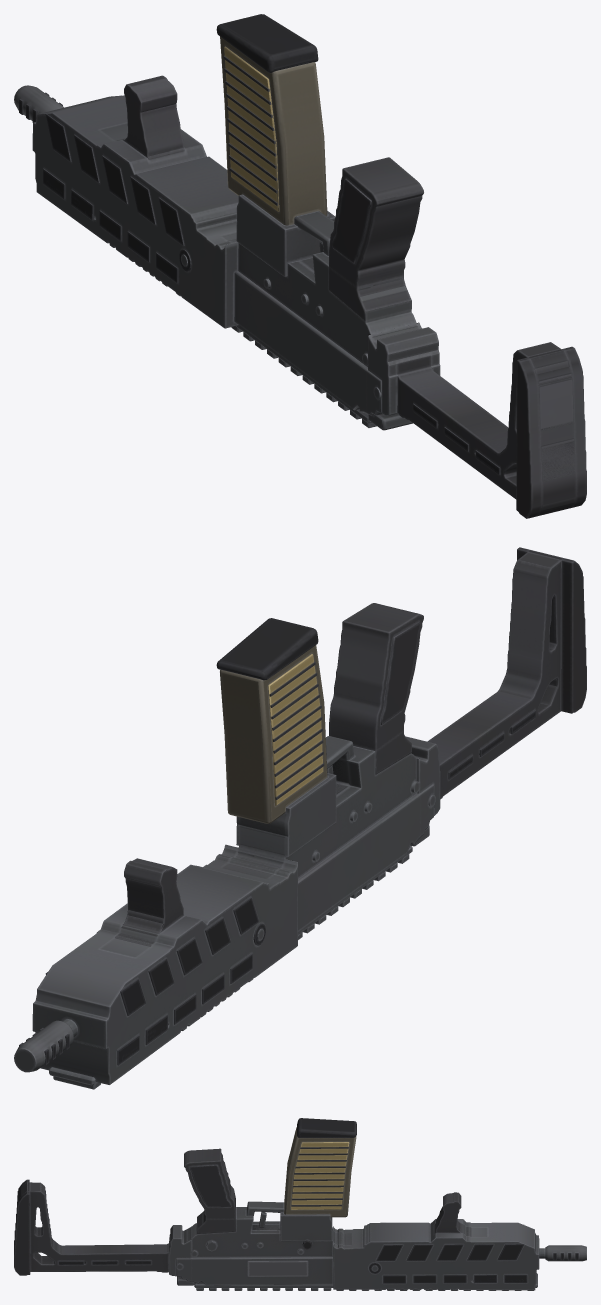
The model's file is AT_MCX.fbx.
3 renders of one model, top to bottom at view 1: azimuth 30°, elevation 25°; view 2: azimuth 150°, elevation 25°; view 3: azimuth 270°, elevation 25°, orthographic. The views are drawn at different scales.
Parts seen in each view (by area): view 1: AT_MCX_export; view 2: AT_MCX_export; view 3: AT_MCX_export.
Part boxes in pixels (x1,y1,x2,y2): AT_MCX_export: (14, 14, 586, 518); AT_MCX_export: (14, 547, 586, 1089); AT_MCX_export: (14, 1118, 586, 1290).
Size of the model in its own units: 0.0358 by 0.4289 by 0.1339.
